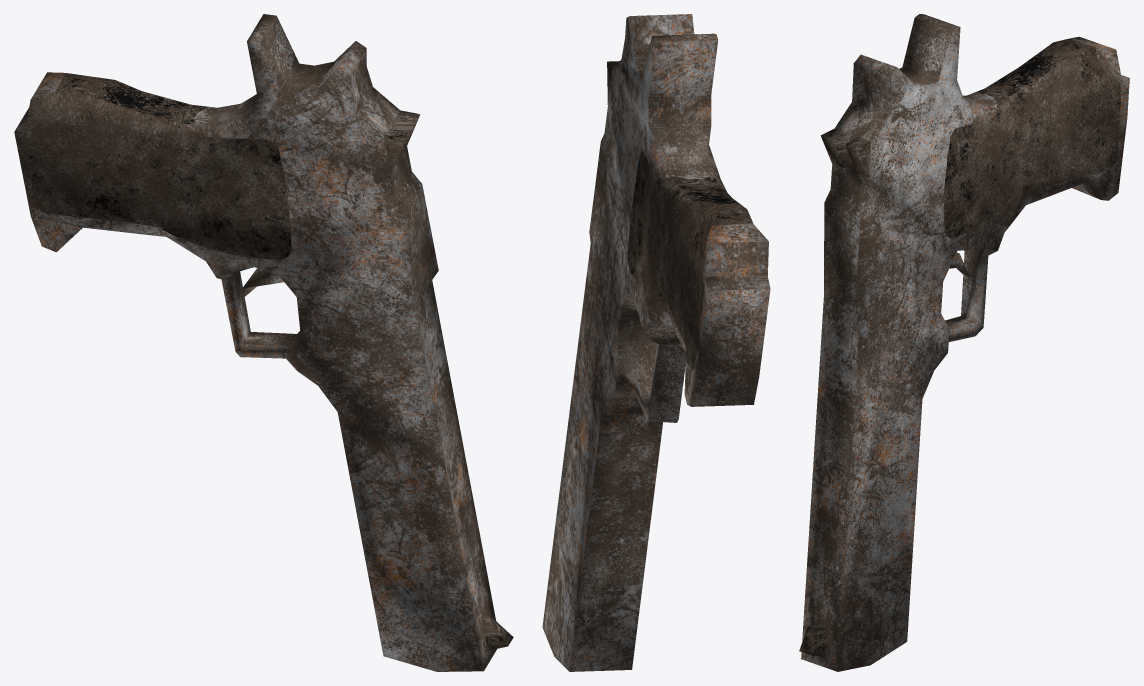
File: Anim_idle_pistola_objetos.0055.obj
3 renders of one model, left to right at view 1: azimuth 30°, elevation 25°; view 2: azimuth 150°, elevation 25°; view 3: azimuth 270°, elevation 25°, orthographic. The views are drawn at different scales.
Parts seen in each view (by area): view 1: Pistola1; view 2: Pistola1; view 3: Pistola1.
Boxes of the visible parts, x1,y1,x2,y2 form: Pistola1: (14,14,513,671); Pistola1: (542,14,770,671); Pistola1: (799,14,1129,671).
Bounding box in the file's own units: 0.953 × 1.66 × 0.861.
